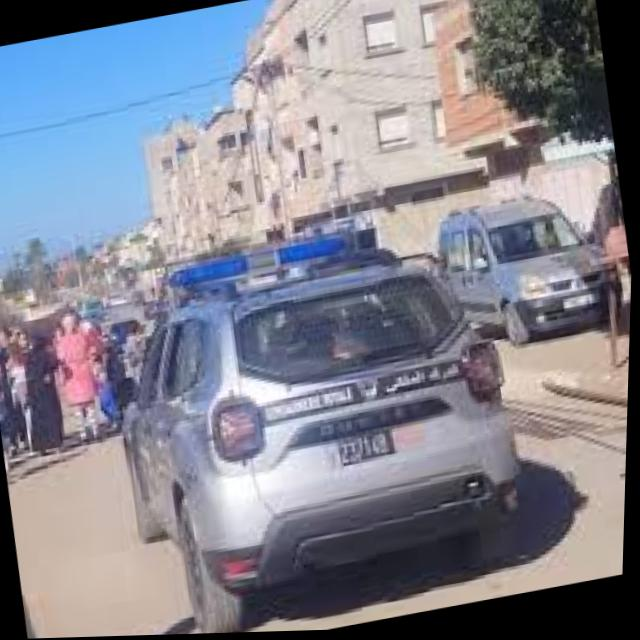gendarme car: (89, 201, 555, 638)
